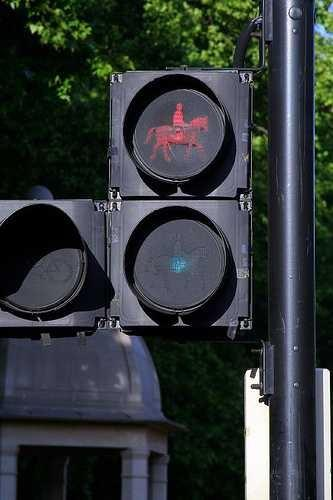red: (111, 66, 256, 198)
